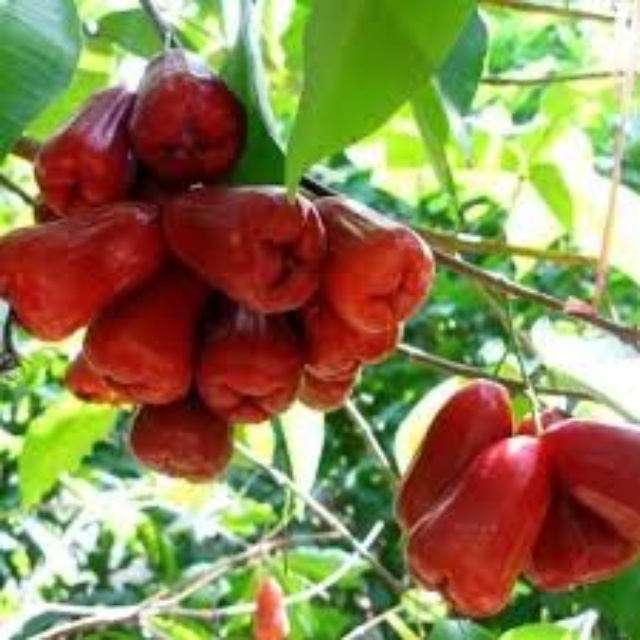xoai: (400, 410, 560, 617), (1, 190, 161, 339), (173, 178, 328, 315), (302, 179, 432, 327), (398, 372, 517, 529), (83, 272, 196, 410), (129, 35, 240, 173), (541, 394, 640, 539)
